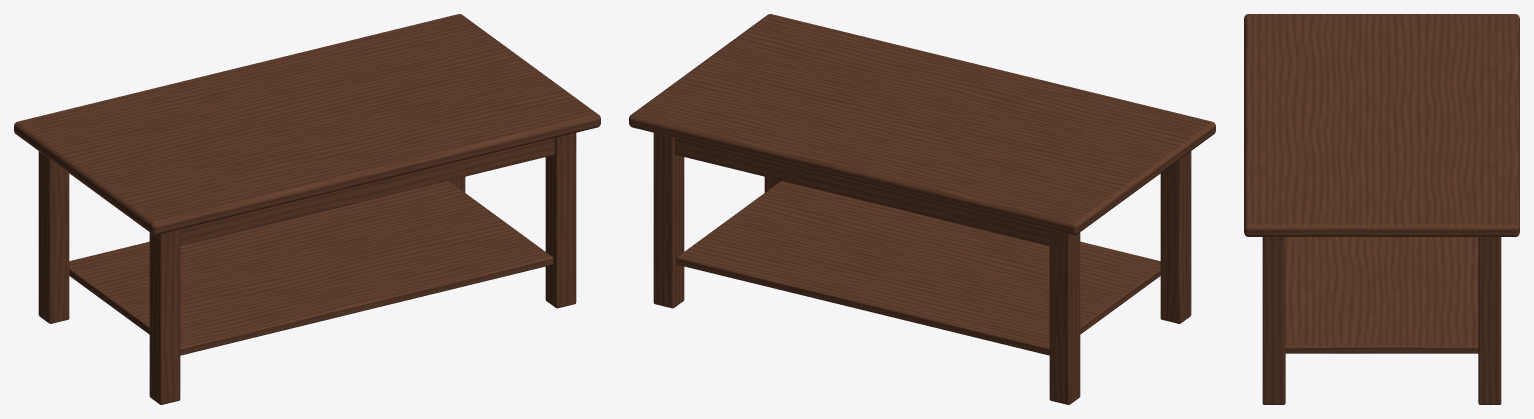
Rendered from coffee-table.glb.
3 renders of one model, left to right at view 1: azimuth 30°, elevation 25°; view 2: azimuth 150°, elevation 25°; view 3: azimuth 270°, elevation 25°, orthographic. The views are drawn at different scales.
Parts seen in each view (by area): view 1: Wood; view 2: Wood; view 3: Wood.
Boxes of the visible parts, x1,y1,x2,y2 form: Wood: (14, 14, 600, 404); Wood: (629, 14, 1215, 404); Wood: (1244, 14, 1519, 404).
Size of the model in its own units: 1.1 by 0.45 by 0.6.
1 material, 1 textured.
